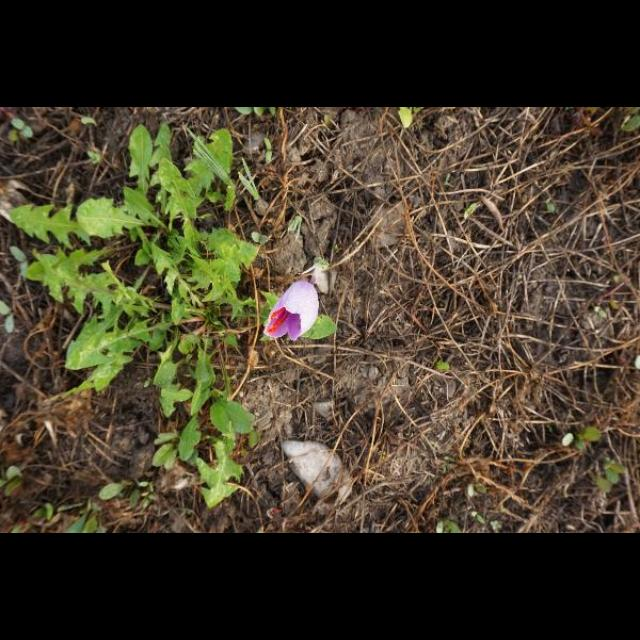flower: (264, 280, 320, 342)
